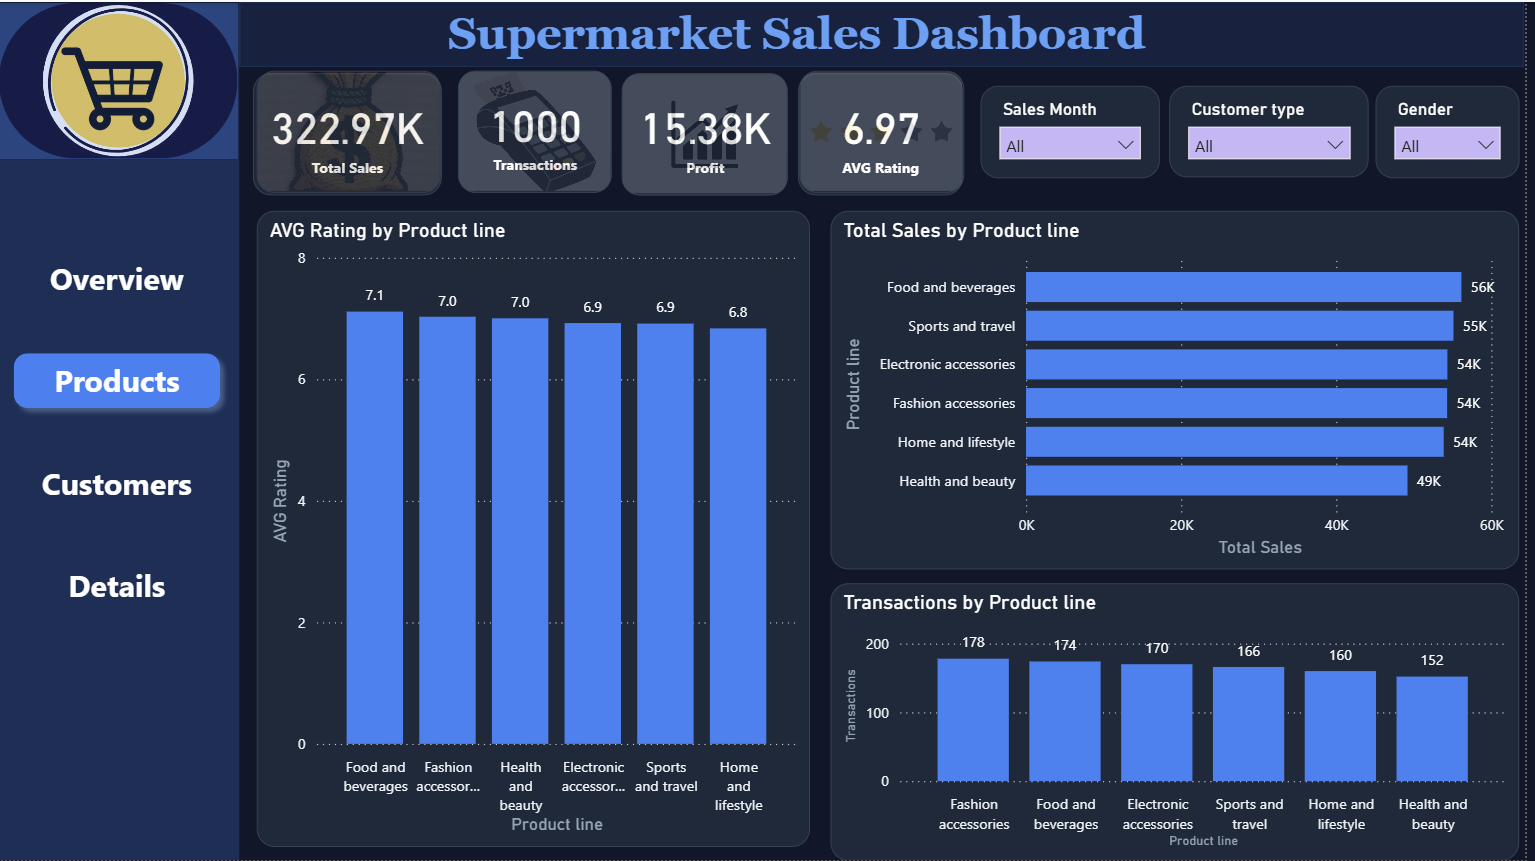

What the dashboard file says about the page in this screenshot:
{"tool":"powerbi","page":{"name":"Products","canvas":[1280,720],"ordinal":1},"visuals":[{"type":"card","fields":{"Values":["supermarket_sales.Gross Income"]},"box":[523.3,59.3,139.5,102.3],"z":0},{"type":"shape","box":[0,0,202.3,719.8],"z":500,"group":"g1"},{"type":"card","fields":{"Values":["supermarket_sales.AVG Rating"]},"box":[670.9,59.3,138.4,102.3],"z":1000},{"type":"card","fields":{"Values":["supermarket_sales.Transactions"]},"box":[386,58.1,129.1,102.3],"z":2000},{"type":"clusteredColumnChart","fields":{"Y":["supermarket_sales.Transactions"],"Category":["supermarket_sales.Product line"]},"box":[697.7,487.2,577.9,232.6],"z":3000},{"type":"image","box":[0,0,202.3,132.6],"z":4000},{"type":"textbox","box":[372,0,619,54],"z":5000},{"type":"shape","box":[202.1,0,1077.9,54.7],"z":6000},{"type":"clusteredBarChart","fields":{"Category":["supermarket_sales.Product line"],"Y":["supermarket_sales.Total Revenue"]},"box":[697.7,175.6,577.9,301.2],"z":8000},{"type":"clusteredColumnChart","fields":{"Category":["supermarket_sales.Product line"],"Y":["supermarket_sales.AVG Rating"]},"box":[217.4,175.6,464,533.7],"z":9000},{"type":"slicer","fields":{"Values":["supermarket_sales.Sales Month"]},"box":[824.4,70,150,77.9],"z":10000},{"type":"slicer","fields":{"Values":["supermarket_sales.Customer type"]},"box":[982.6,70,167.4,76.7],"z":11000},{"type":"slicer","fields":{"Values":["supermarket_sales.Gender"]},"box":[1155,70,120.9,77.9],"z":12000},{"type":"image","box":[386,58.1,129.1,102.3],"z":13000},{"type":"image","box":[523.3,59.3,139.5,102.3],"z":14000},{"type":"image","box":[672.1,58.1,138.4,102.3],"z":15000},{"type":"card","fields":{"Values":["supermarket_sales.Total Revenue"]},"box":[214,59.3,158.1,102.3],"z":16000},{"type":"image","box":[217.4,58.1,154.7,102.3],"z":17000},{"type":"pageNavigator","box":[4.7,198.8,191.9,324],"z":20000,"group":"g1"},{"type":"group","id":"g1","title":"Group 1","box":[0,0,202.3,719.8],"z":20001}]}

Visuals, with their boxes in screenshot pixels (x1, y1, x2, y2), scaled from the page's 1280x720 canvas onto the 1535x861 screenshot:
card - supermarket_sales.Gross Income: (x1=628, y1=71, x2=795, y2=193)
shape: (x1=0, y1=0, x2=243, y2=860)
card - supermarket_sales.AVG Rating: (x1=805, y1=71, x2=971, y2=193)
card - supermarket_sales.Transactions: (x1=463, y1=69, x2=618, y2=192)
clusteredColumnChart - supermarket_sales.Transactions x supermarket_sales.Product line: (x1=837, y1=583, x2=1530, y2=860)
image: (x1=0, y1=0, x2=243, y2=159)
textbox: (x1=446, y1=0, x2=1188, y2=65)
shape: (x1=242, y1=0, x2=1534, y2=65)
clusteredBarChart - supermarket_sales.Product line x supermarket_sales.Total Revenue: (x1=837, y1=210, x2=1530, y2=570)
clusteredColumnChart - supermarket_sales.Product line x supermarket_sales.AVG Rating: (x1=261, y1=210, x2=817, y2=848)
slicer - supermarket_sales.Sales Month: (x1=989, y1=84, x2=1169, y2=177)
slicer - supermarket_sales.Customer type: (x1=1178, y1=84, x2=1379, y2=175)
slicer - supermarket_sales.Gender: (x1=1385, y1=84, x2=1530, y2=177)
image: (x1=463, y1=69, x2=618, y2=192)
image: (x1=628, y1=71, x2=795, y2=193)
image: (x1=806, y1=69, x2=972, y2=192)
card - supermarket_sales.Total Revenue: (x1=257, y1=71, x2=446, y2=193)
image: (x1=261, y1=69, x2=446, y2=192)
pageNavigator: (x1=6, y1=238, x2=236, y2=625)
"Group 1" group: (x1=0, y1=0, x2=243, y2=860)
